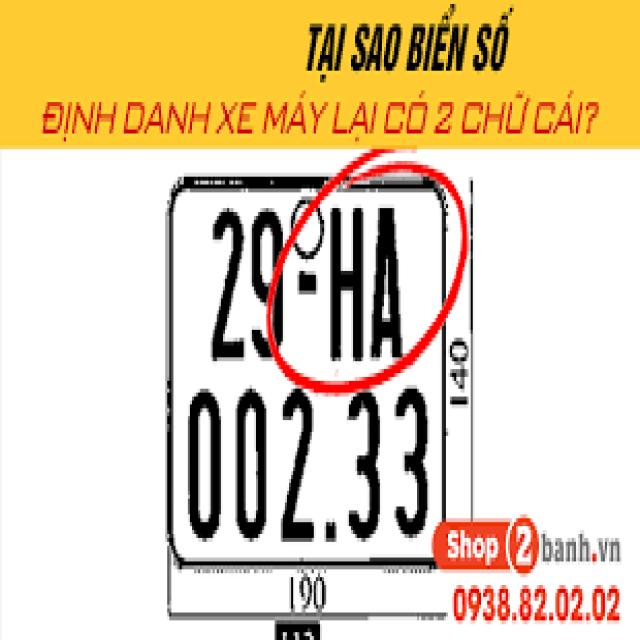a: (157, 164, 471, 578)
bien so: (162, 170, 454, 579)
